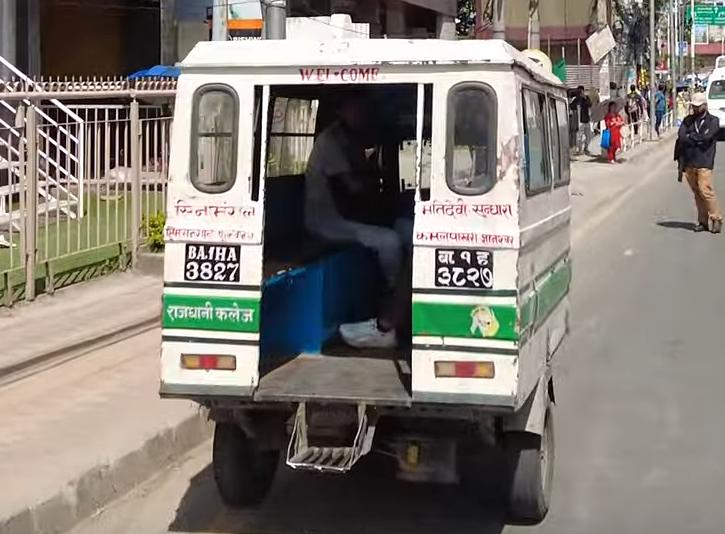tempo: (160, 28, 617, 529)
